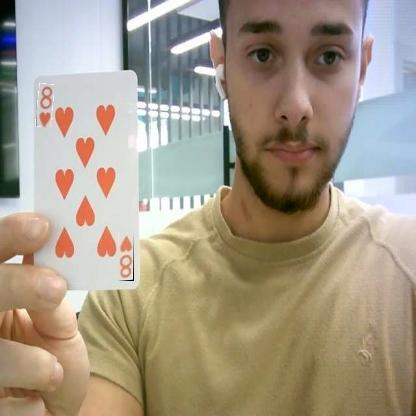8H: (118, 233, 134, 281), (36, 84, 53, 127)
